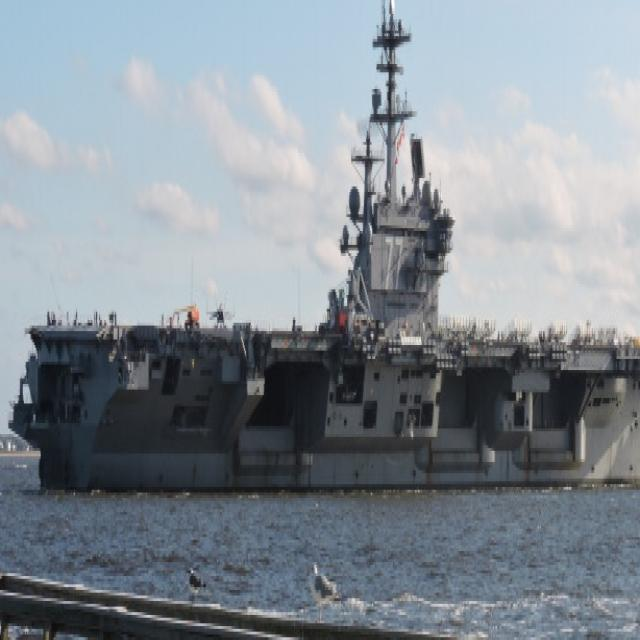Portanaves: (11, 1, 640, 507)
